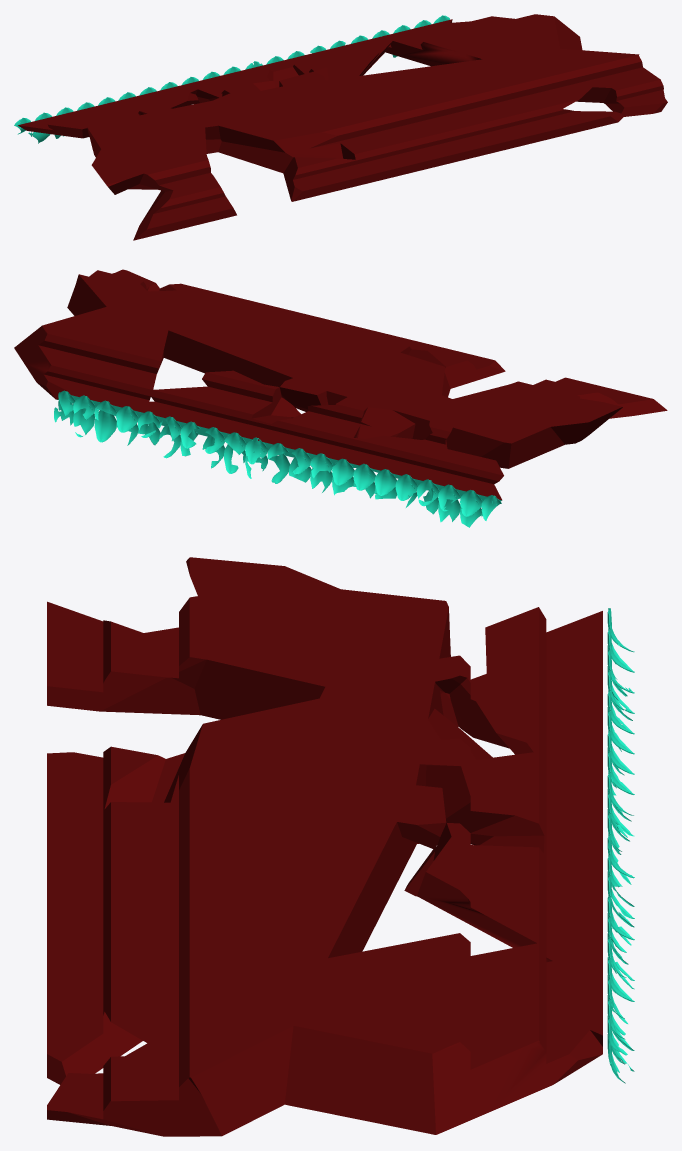
File: toit_casse.FBX
3 views of the same model, one above another, from view 1: azimuth 30°, elevation 25°; view 2: azimuth 150°, elevation 25°; view 3: azimuth 270°, elevation 25° (orthographic). The views are drawn at different scales.
Parts seen in each view (by area): view 1: Box307_frag_045_frag_017; view 2: Box307_frag_045_frag_017; view 3: Box307_frag_045_frag_017.
Boxes of the visible parts, x1=… form: Box307_frag_045_frag_017: x1=14, y1=14, x2=667, y2=240; Box307_frag_045_frag_017: x1=14, y1=269, x2=667, y2=527; Box307_frag_045_frag_017: x1=47, y1=557, x2=634, y2=1136.
Bounding box in the file's own units: 694 × 62.51 × 324.
